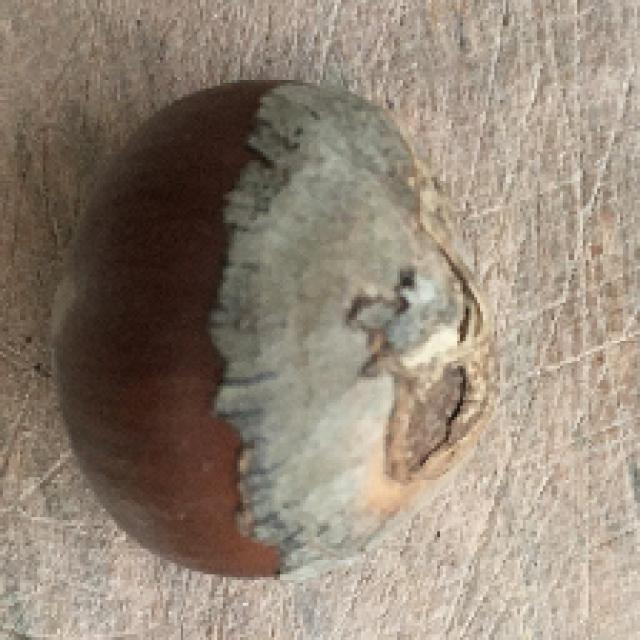damagedHazelnut: (48, 71, 484, 585)
